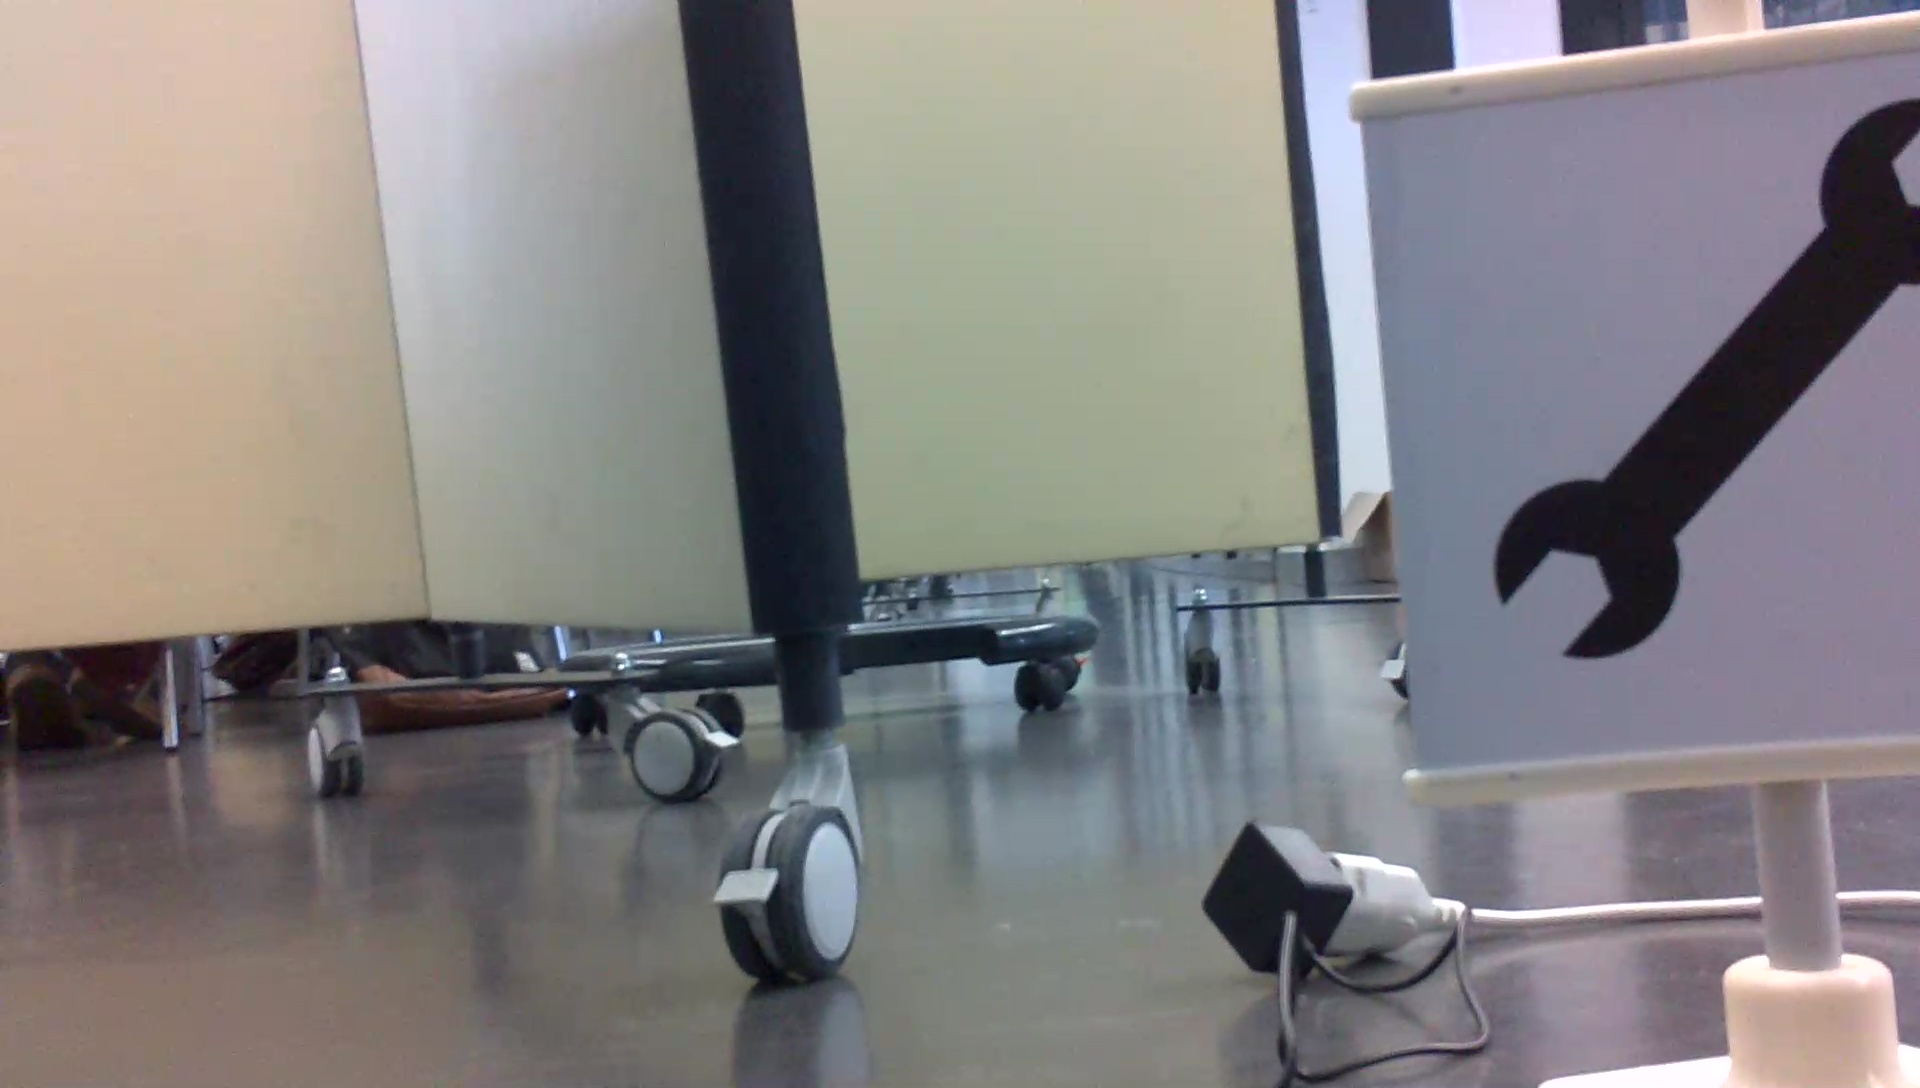wrench: (1484, 86, 1920, 663)
